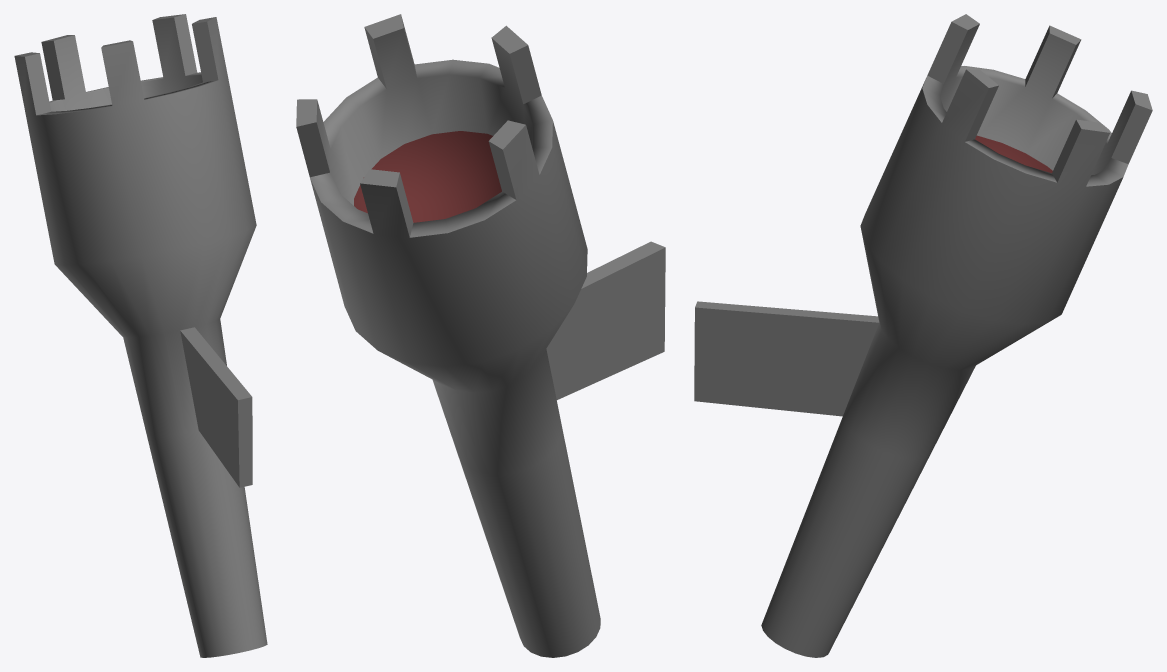
The model's file is wall sconce.fbx.
The picture shows the model from 3 angles, left to right: view 1: azimuth 30°, elevation 25°; view 2: azimuth 150°, elevation 25°; view 3: azimuth 270°, elevation 25°; orthographic projection. The views are drawn at different scales.
Parts seen in each view (by area): view 1: pCylinder1; view 2: pCylinder1; view 3: pCylinder1.
Boxes of the visible parts, x1,y1,x2,y2 form: pCylinder1: [14, 14, 267, 657]; pCylinder1: [296, 14, 665, 657]; pCylinder1: [694, 14, 1152, 657].
Size of the model in its own units: 2 by 6.09 by 4.12.
